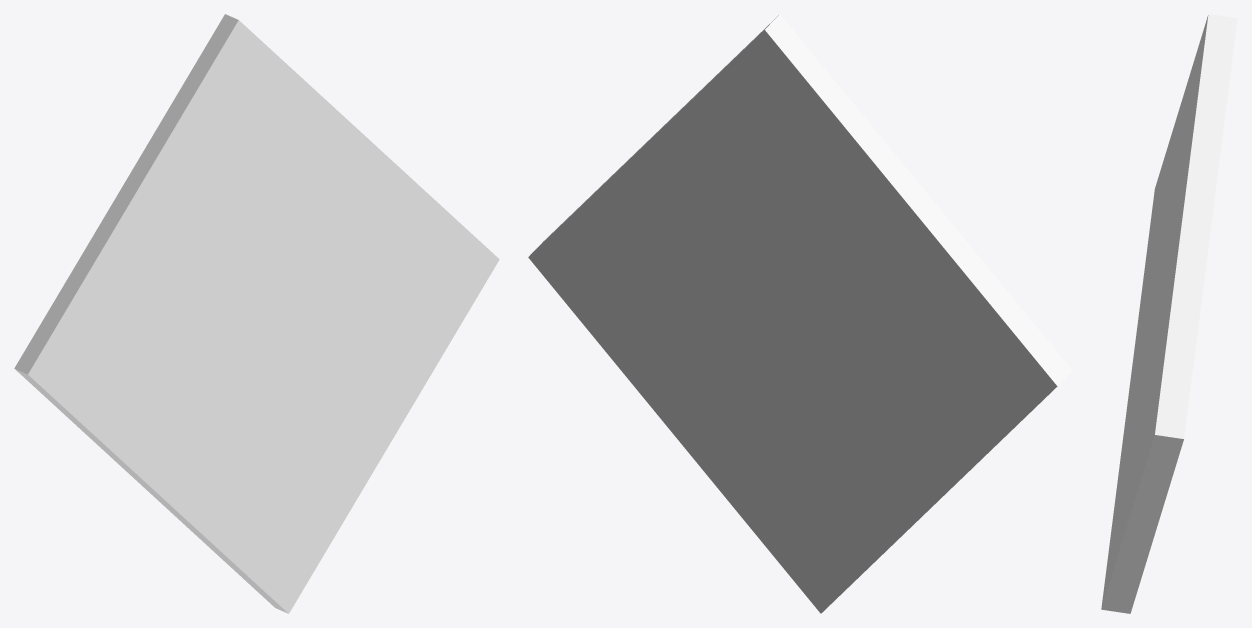
Rendered from 마름모.fbx.
3 views of the same model, side by side, from view 1: azimuth 30°, elevation 25°; view 2: azimuth 150°, elevation 25°; view 3: azimuth 270°, elevation 25° (orthographic). The views are drawn at different scales.
Parts seen in each view (by area): view 1: node_id35; view 2: node_id35; view 3: node_id35.
Part boxes in pixels (x1,y1,x2,y2): node_id35: [14, 14, 499, 613]; node_id35: [528, 14, 1072, 613]; node_id35: [1101, 14, 1237, 613].
Bounding box in the file's own units: 1.01 × 1.14 × 0.2356.
Materials: 1 (1 with a texture image).
